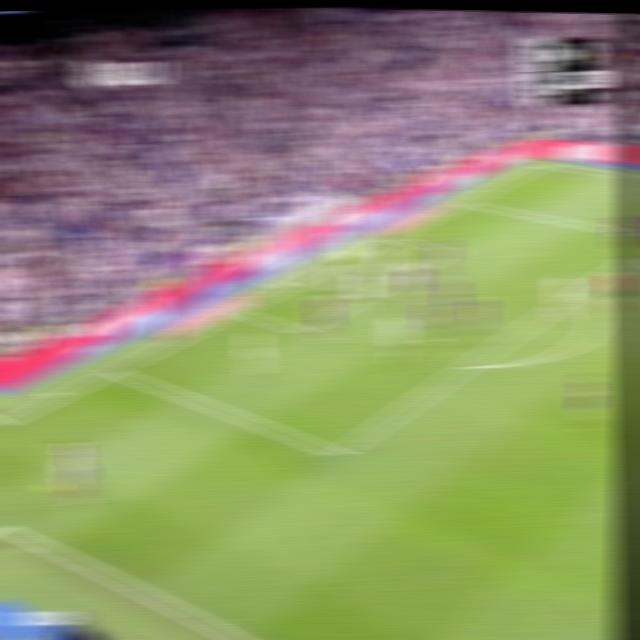bigarea_bottom_inner: (324, 437, 350, 468)
bigarea_bottom_outter: (102, 362, 125, 378)
bigarea_top_outter: (455, 193, 476, 207)
bottom_arc_area_intersection: (456, 354, 481, 374)
corner: (532, 156, 554, 168)
smallarea_bottom_inner: (290, 320, 312, 341)
smallarea_top_inner: (440, 243, 459, 258)
top_arc_area_intersection: (570, 281, 590, 299)
